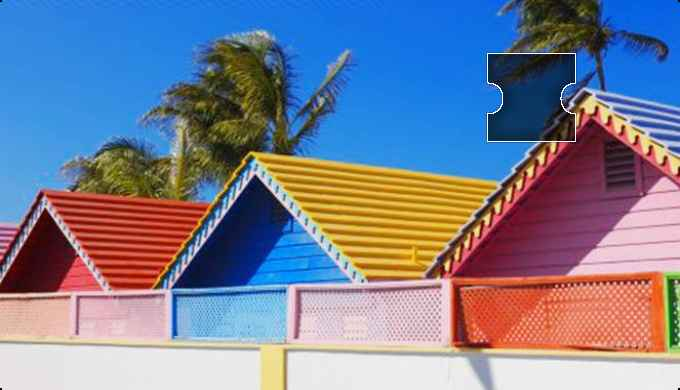gap: (487, 53, 575, 143)
